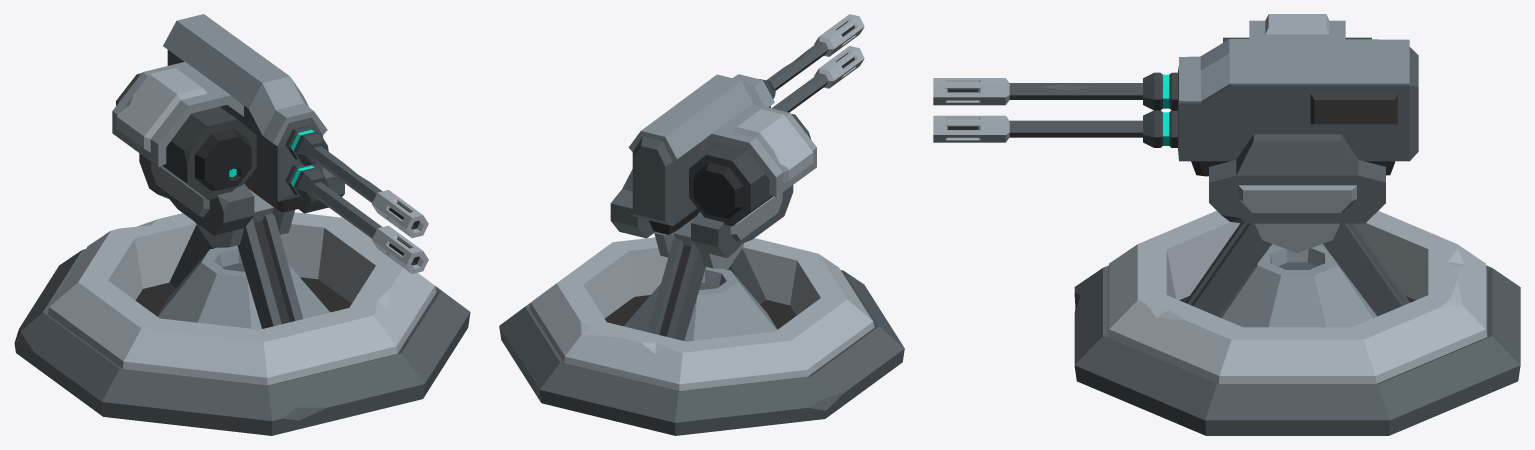
Rendered from SM_Prop_Turret_Small_Floor_01.fbx.
The picture shows the model from 3 angles, left to right: view 1: azimuth 30°, elevation 25°; view 2: azimuth 150°, elevation 25°; view 3: azimuth 270°, elevation 25°; orthographic projection. The views are drawn at different scales.
Visible parts, largest first — view 1: SM_Prop_Turret_Small_Floor_01, SM_Prop_Turret_Small_Gun_Floor_01, SM_Prop_Turret_Small_Pivot_Floor_01; view 2: SM_Prop_Turret_Small_Floor_01, SM_Prop_Turret_Small_Gun_Floor_01, SM_Prop_Turret_Small_Pivot_Floor_01; view 3: SM_Prop_Turret_Small_Floor_01, SM_Prop_Turret_Small_Gun_Floor_01, SM_Prop_Turret_Small_Pivot_Floor_01.
Boxes of the visible parts, <box> form: SM_Prop_Turret_Small_Floor_01: <box>14,212,470,435</box>; SM_Prop_Turret_Small_Gun_Floor_01: <box>112,14,428,273</box>; SM_Prop_Turret_Small_Pivot_Floor_01: <box>169,189,303,328</box>; SM_Prop_Turret_Small_Floor_01: <box>499,237,904,435</box>; SM_Prop_Turret_Small_Gun_Floor_01: <box>610,14,864,257</box>; SM_Prop_Turret_Small_Pivot_Floor_01: <box>647,217,766,340</box>; SM_Prop_Turret_Small_Floor_01: <box>1074,210,1520,435</box>; SM_Prop_Turret_Small_Gun_Floor_01: <box>933,14,1418,223</box>; SM_Prop_Turret_Small_Pivot_Floor_01: <box>1185,223,1409,316</box>.
Bounding box in the file's own units: 160 × 118 × 211.
1 material, 1 textured.
